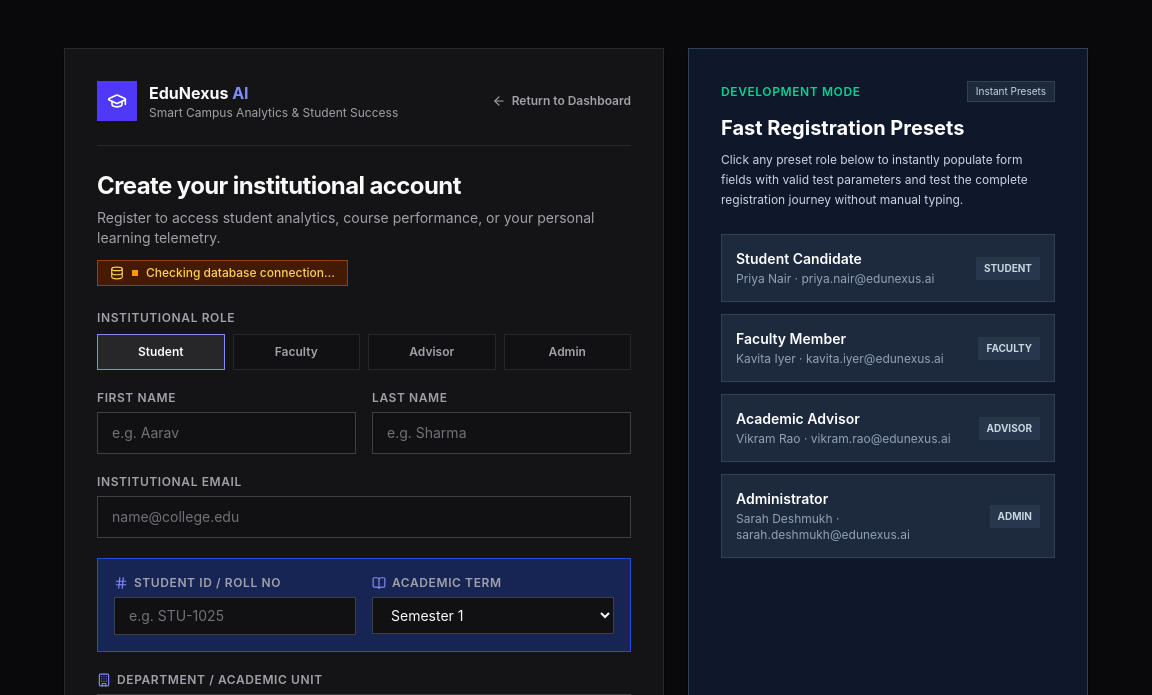
Test: RegisterPage Component › applies development preset when clicked
Click the button "Student Candidate". click: (888, 268)
box: [721, 234, 1055, 302]
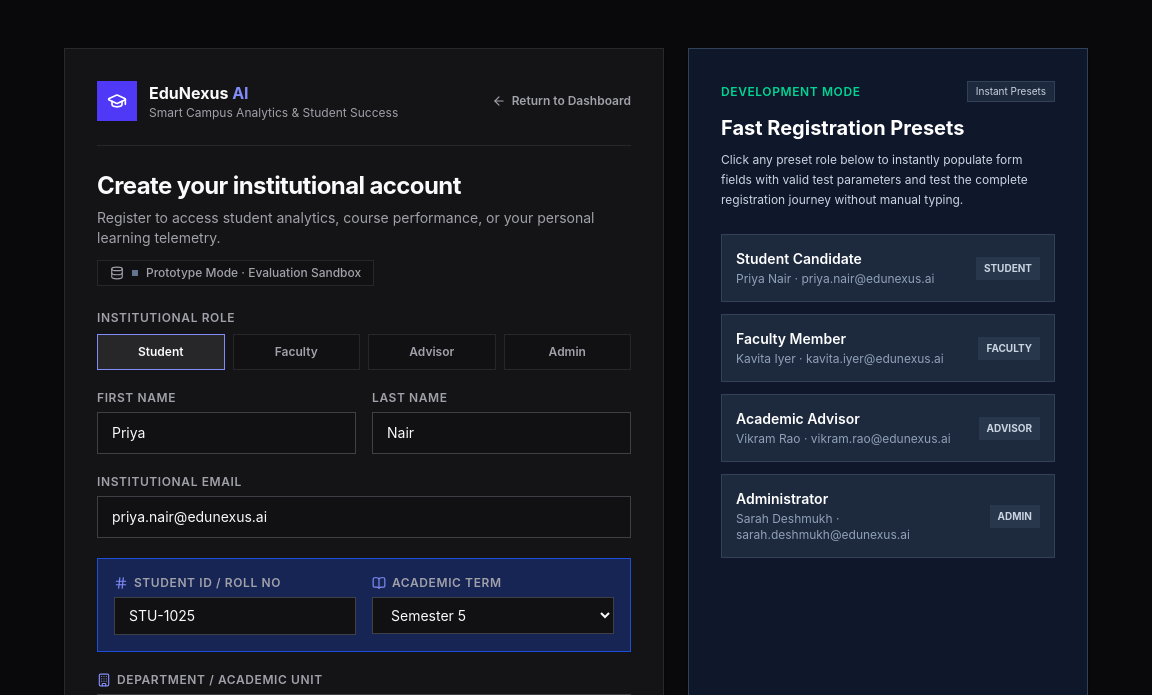
Now the field labelled "First Name" holds "Priya", box [97, 412, 356, 454]
Now the field labelled "Last Name" holds "Nair", box [372, 412, 631, 454]
Now the field labelled "Institutional Email" holds "priya.nair@edunexus.ai", box [97, 496, 631, 538]
